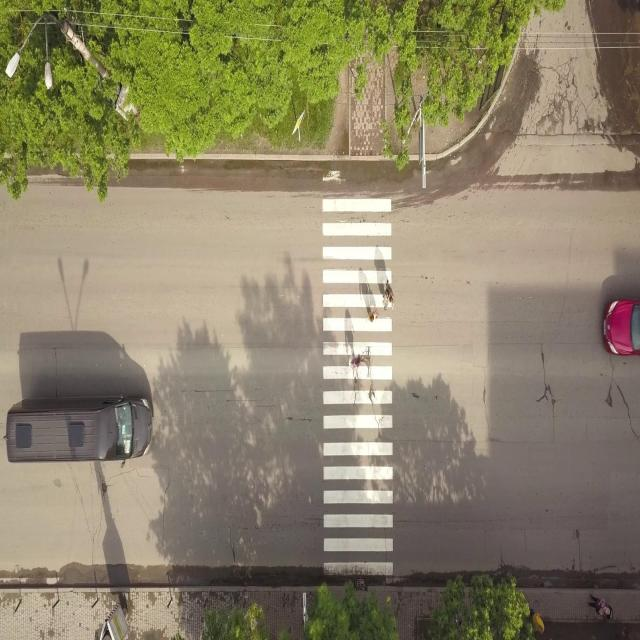Car: (602, 291, 640, 372)
Van: (6, 382, 160, 477)
